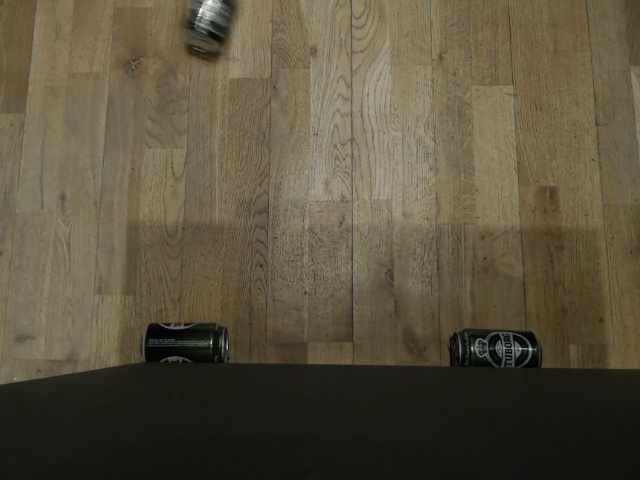beer: (137, 320, 230, 364), (449, 327, 544, 369), (179, 0, 236, 52)
